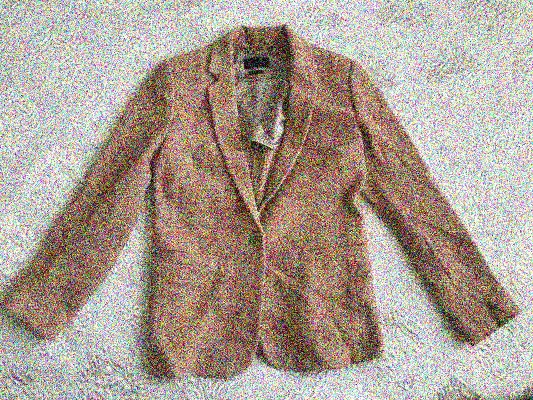Blazer: (13, 20, 516, 375)
